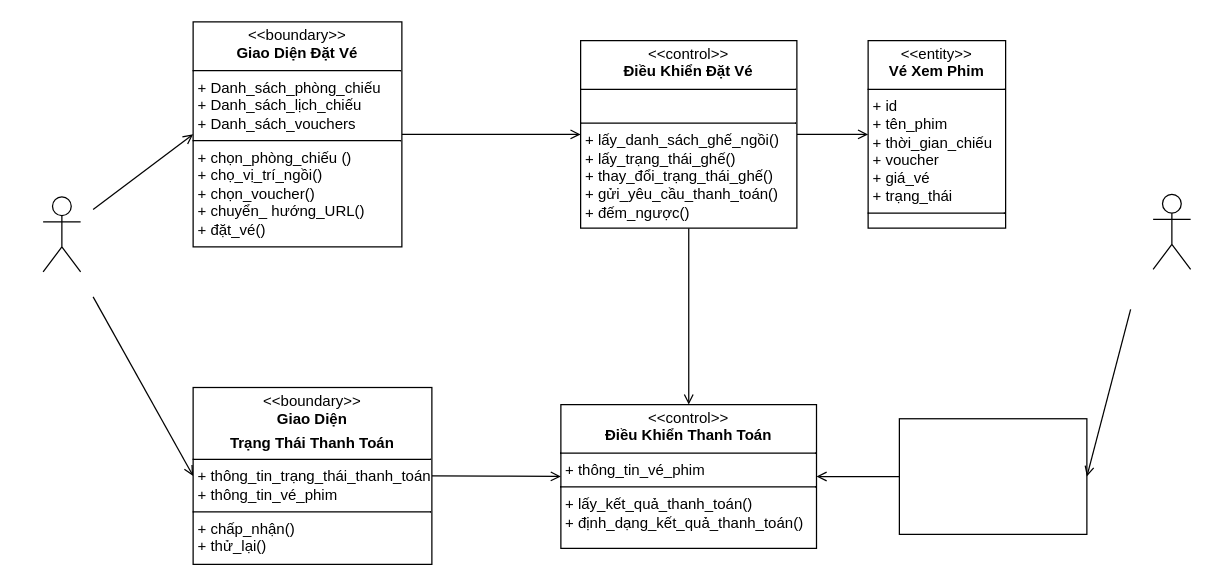
Image size: 1216x586. Some labels were removed from this diagram. Each missing label, with the centre of its shape:
<<boundary>> Giao Diện Kết Quả Thanh Toán + kết_quả_thanh_toán: (992,476)
Khách hàng: (61,234)
VNPay: (1171,231)
